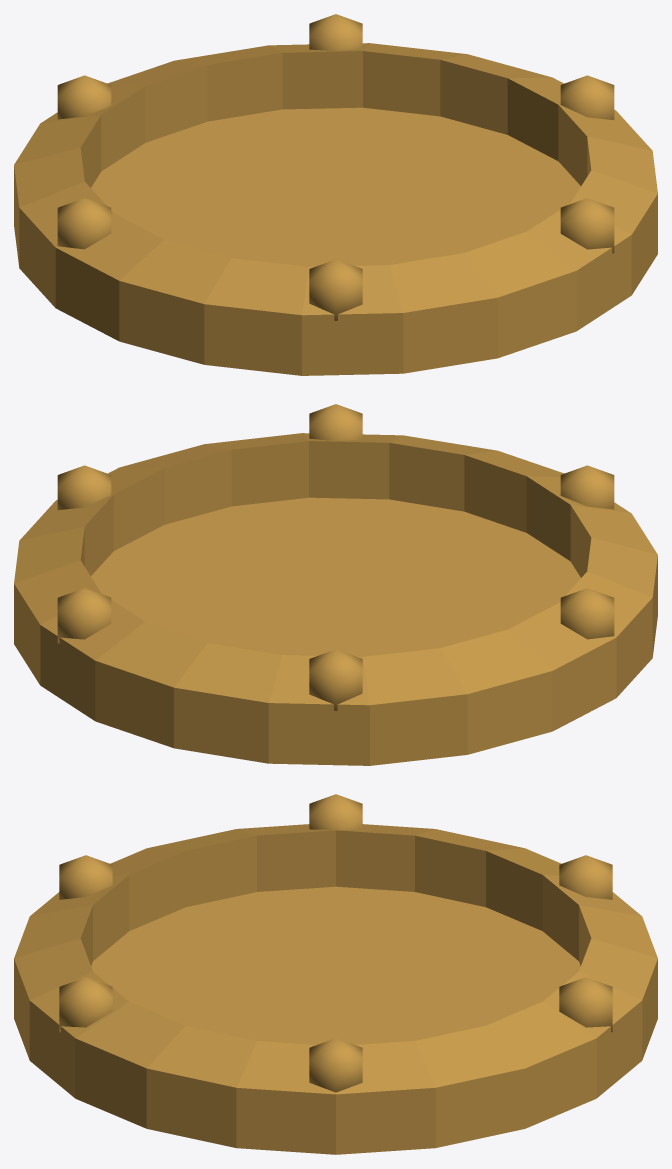
The model's file is slate_socket.glb.
3 views of the same model, one above another, from view 1: azimuth 30°, elevation 25°; view 2: azimuth 150°, elevation 25°; view 3: azimuth 270°, elevation 25° (orthographic).
Visible parts, largest first — view 1: SlateSocket_Brass; view 2: SlateSocket_Brass; view 3: SlateSocket_Brass.
Part boxes in pixels (left/top/right/bottom): SlateSocket_Brass: left=14, top=14, right=657, bottom=375; SlateSocket_Brass: left=14, top=404, right=657, bottom=765; SlateSocket_Brass: left=14, top=794, right=657, bottom=1154.
Bounding box in the file's own units: 0.029 × 0.0051 × 0.029.
